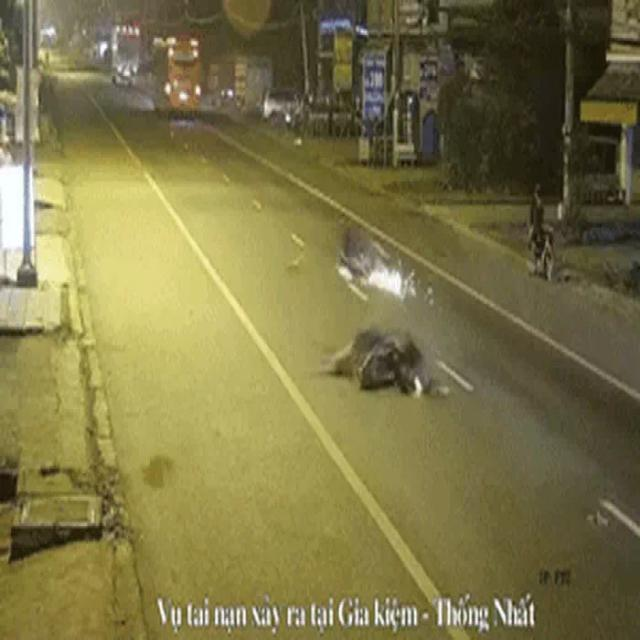multiple_accident: (319, 211, 444, 410)
